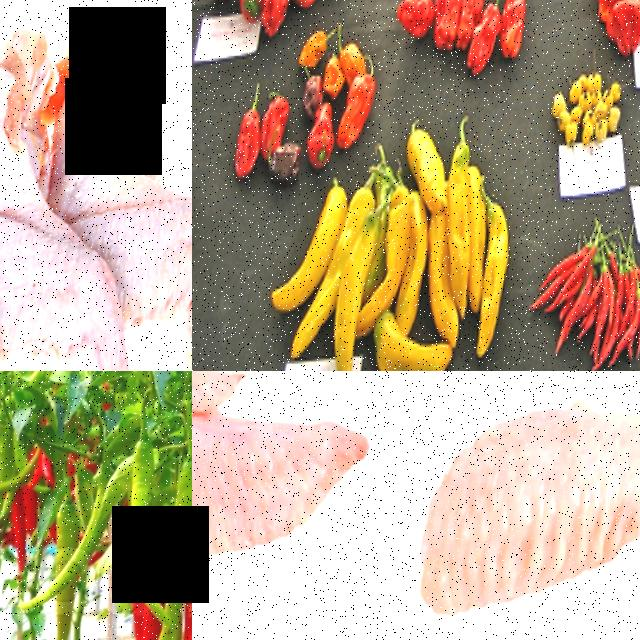chicken wing: (58, 32, 192, 371), (192, 371, 378, 588), (0, 77, 64, 371)
chilli: (115, 431, 161, 616), (44, 494, 85, 640), (161, 450, 192, 623), (605, 276, 629, 371), (557, 303, 587, 364), (595, 270, 617, 351)
